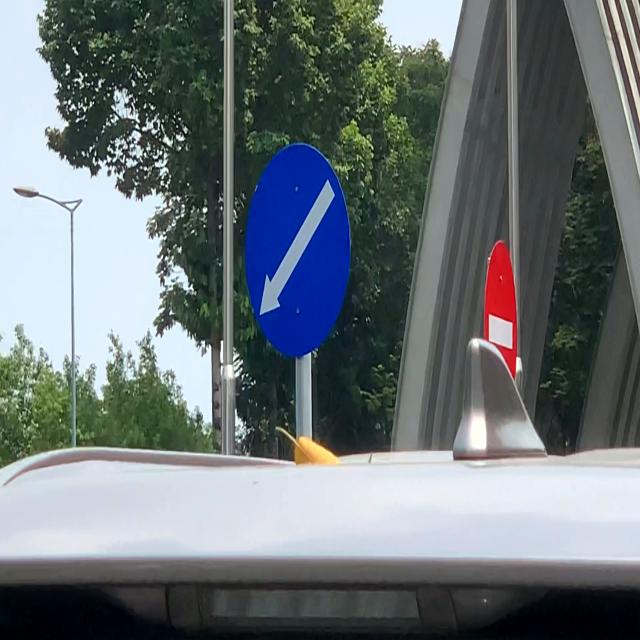R.302b: (244, 143, 352, 359)
